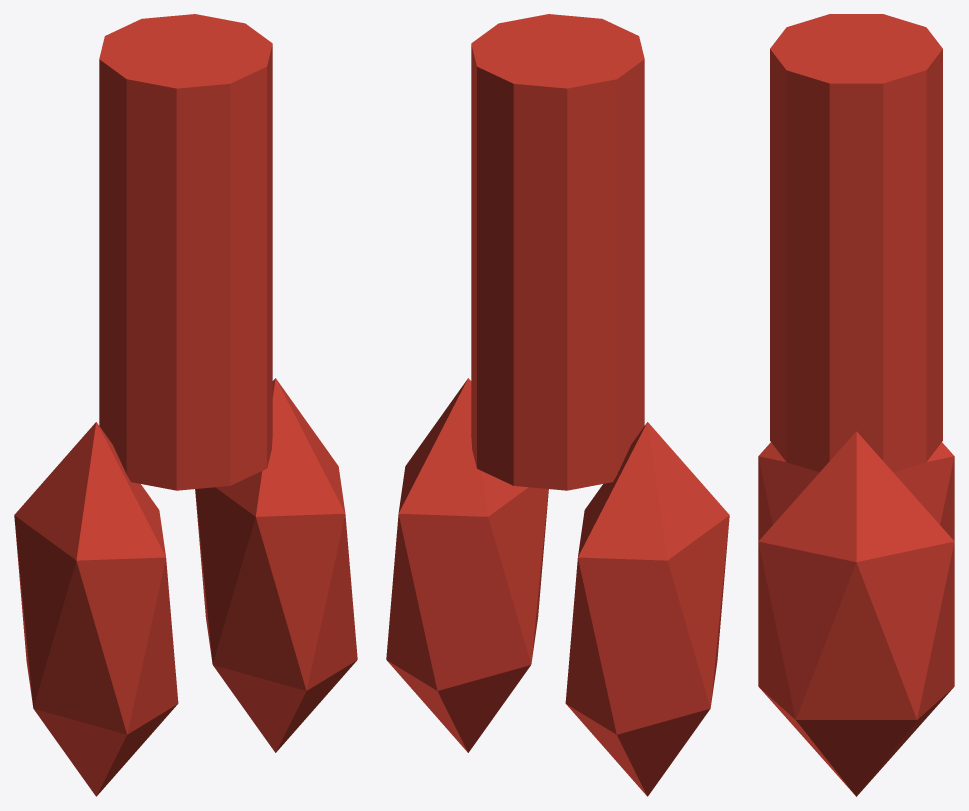
Rendered from limb_crab_claw_arm.glb.
The picture shows the model from 3 angles, left to right: view 1: azimuth 30°, elevation 25°; view 2: azimuth 150°, elevation 25°; view 3: azimuth 270°, elevation 25°; orthographic projection. The views are drawn at different scales.
Parts seen in each view (by area): view 1: PART_forearm, PART_claw_upper, PART_claw_lower; view 2: PART_forearm, PART_claw_upper, PART_claw_lower; view 3: PART_forearm, PART_claw_lower, PART_claw_upper.
Boxes of the visible parts, x1,y1,x2,y2 form: PART_forearm: (99,14,272,490); PART_claw_upper: (14,422,178,796); PART_claw_lower: (195,378,357,752); PART_forearm: (471,14,644,490); PART_claw_upper: (565,422,729,796); PART_claw_lower: (386,378,548,752); PART_forearm: (770,14,942,472); PART_claw_lower: (758,431,954,796); PART_claw_upper: (758,442,954,540).
Bounding box in the file's own units: 0.2384 × 0.54 × 0.1361.
